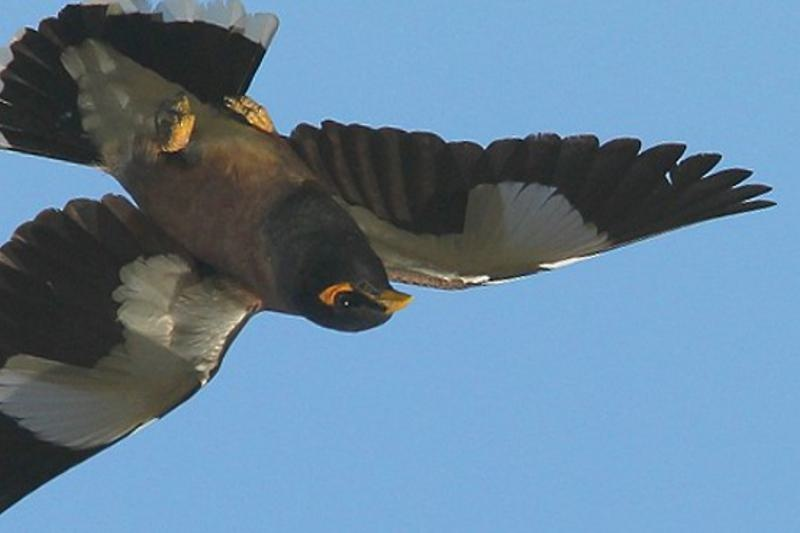myna: (33, 21, 754, 488)
